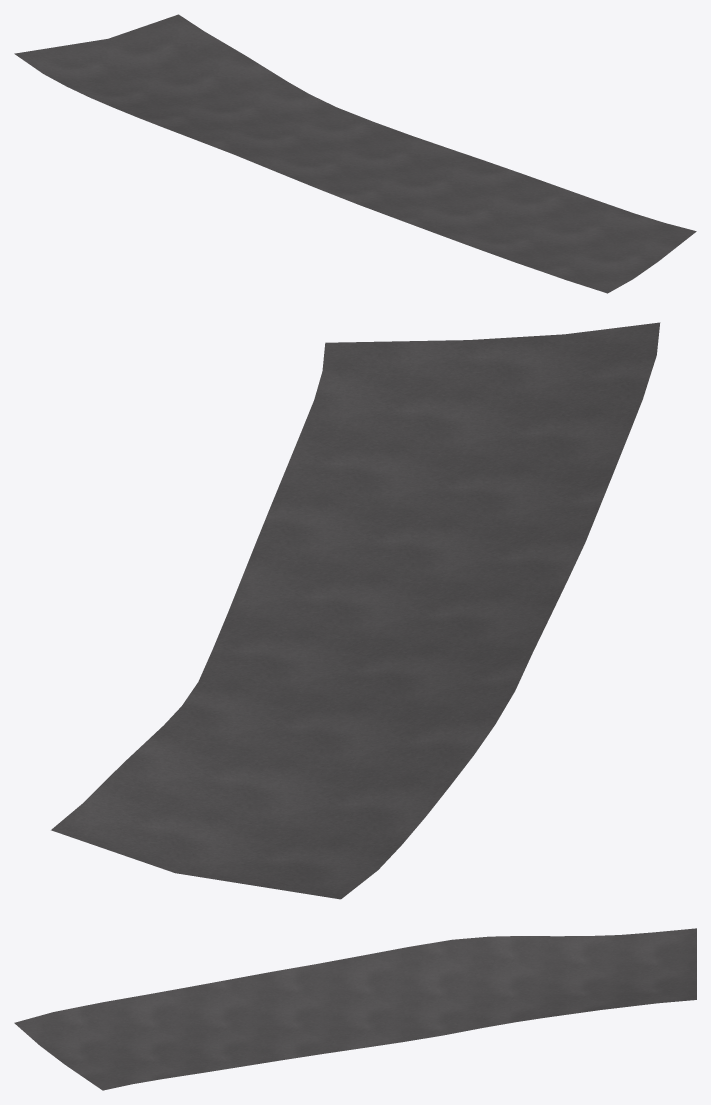
Rendered from road_03.gltf.
3 views of the same model, one above another, from view 1: azimuth 30°, elevation 25°; view 2: azimuth 150°, elevation 25°; view 3: azimuth 270°, elevation 25° (orthographic). The views are drawn at different scales.
Parts seen in each view (by area): view 1: road_03.surface; view 2: road_03.surface; view 3: road_03.surface.
Boxes of the visible parts, box(x1,y1,x2,y2) form: road_03.surface: box(14, 14, 696, 293); road_03.surface: box(51, 322, 660, 899); road_03.surface: box(14, 928, 696, 1090).
Size of the model in its own units: 14.71 by 0.9339 by 28.53.
1 material, 1 textured.
